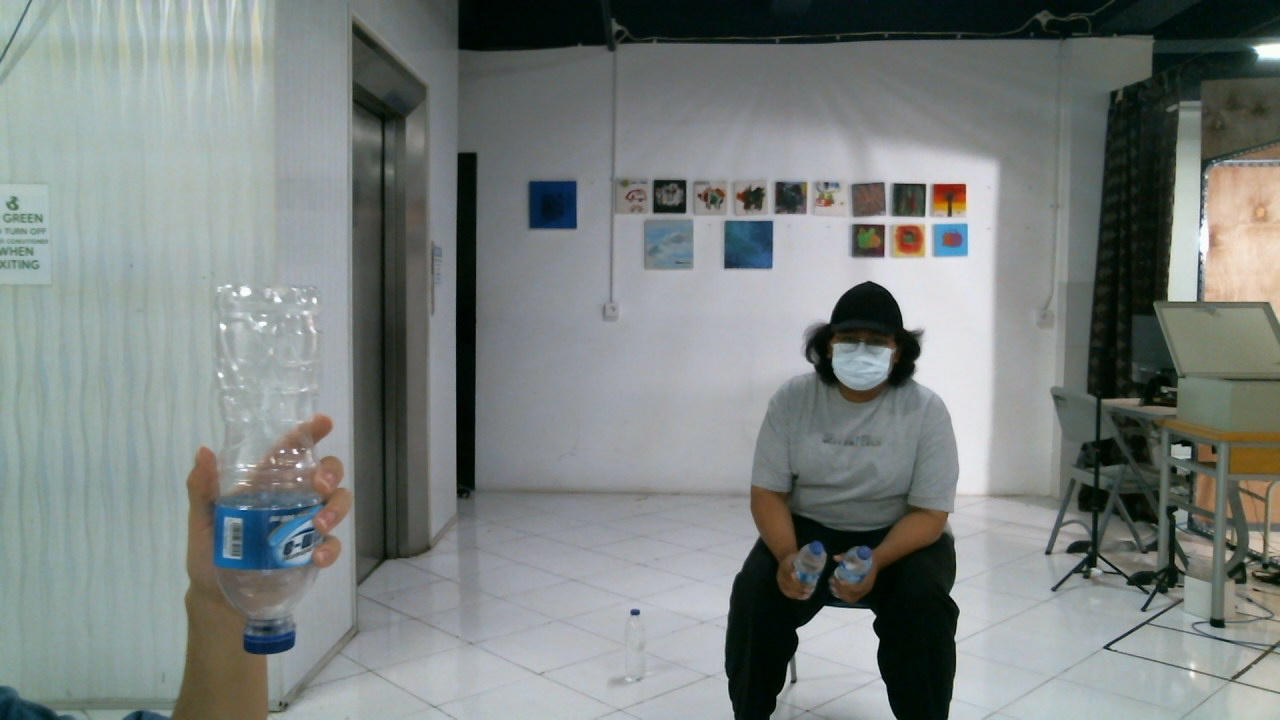Bottle: (212, 283, 326, 655)
